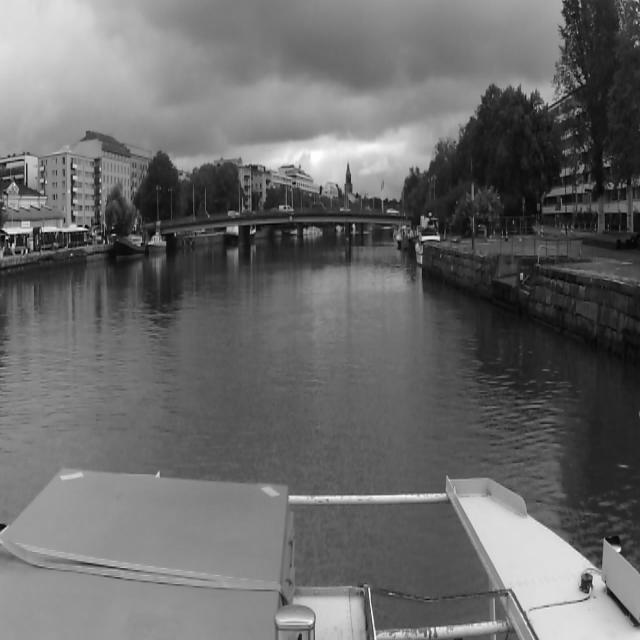ship: (115, 226, 145, 258), (148, 233, 166, 253)
